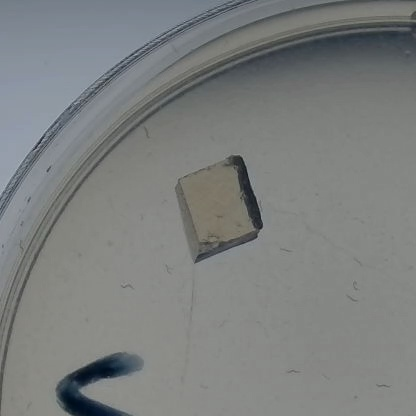worm: (373, 380, 393, 394), (118, 281, 138, 293), (141, 124, 153, 143), (160, 262, 175, 277), (21, 398, 37, 412), (216, 318, 232, 331), (278, 244, 298, 254), (343, 293, 361, 304), (353, 254, 366, 269), (351, 215, 368, 226), (349, 279, 363, 292), (287, 366, 302, 377), (196, 384, 215, 392), (321, 370, 332, 383)
